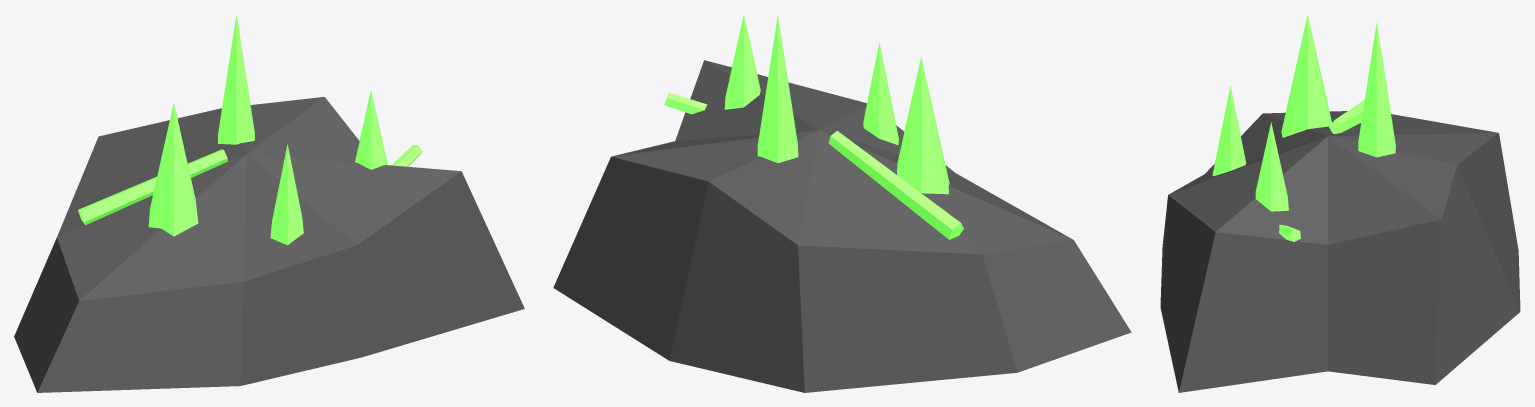
The model's file is ore_uranium.glb.
3 views of the same model, side by side, from view 1: azimuth 30°, elevation 25°; view 2: azimuth 150°, elevation 25°; view 3: azimuth 270°, elevation 25° (orthographic). The views are drawn at different scales.
Parts seen in each view (by area): view 1: ore_uranium_rock_base, ore_uranium_ore_crystal_1, ore_uranium_ore_crystal_2, ore_uranium_ore_vein_1, ore_uranium_ore_crystal_4, ore_uranium_ore_crystal_3; view 2: ore_uranium_rock_base, ore_uranium_ore_crystal_1, ore_uranium_ore_crystal_2, ore_uranium_ore_vein_1, ore_uranium_ore_crystal_4, ore_uranium_ore_crystal_3, ore_uranium_ore_vein_2; view 3: ore_uranium_rock_base, ore_uranium_ore_crystal_1, ore_uranium_ore_crystal_2, ore_uranium_ore_crystal_3, ore_uranium_ore_crystal_4, ore_uranium_ore_vein_1.
Part boxes in pixels (x1,y1,x2,y2): ore_uranium_rock_base: [14, 97, 524, 392]; ore_uranium_ore_crystal_1: [148, 102, 198, 236]; ore_uranium_ore_crystal_2: [217, 15, 254, 144]; ore_uranium_ore_vein_1: [78, 149, 227, 225]; ore_uranium_ore_crystal_4: [270, 144, 303, 245]; ore_uranium_ore_crystal_3: [355, 90, 387, 169]; ore_uranium_rock_base: [553, 60, 1131, 392]; ore_uranium_ore_crystal_1: [897, 57, 949, 194]; ore_uranium_ore_crystal_2: [757, 15, 798, 162]; ore_uranium_ore_vein_1: [828, 131, 963, 239]; ore_uranium_ore_crystal_4: [863, 42, 898, 144]; ore_uranium_ore_crystal_3: [724, 14, 760, 109]; ore_uranium_ore_vein_2: [664, 92, 707, 114]; ore_uranium_rock_base: [1160, 111, 1520, 392]; ore_uranium_ore_crystal_1: [1281, 14, 1331, 137]; ore_uranium_ore_crystal_2: [1358, 22, 1395, 157]; ore_uranium_ore_crystal_3: [1255, 122, 1288, 211]; ore_uranium_ore_crystal_4: [1212, 85, 1246, 175]; ore_uranium_ore_vein_1: [1329, 100, 1364, 133].
Size of the model in its own units: 1.31 by 0.75 by 0.8862.
